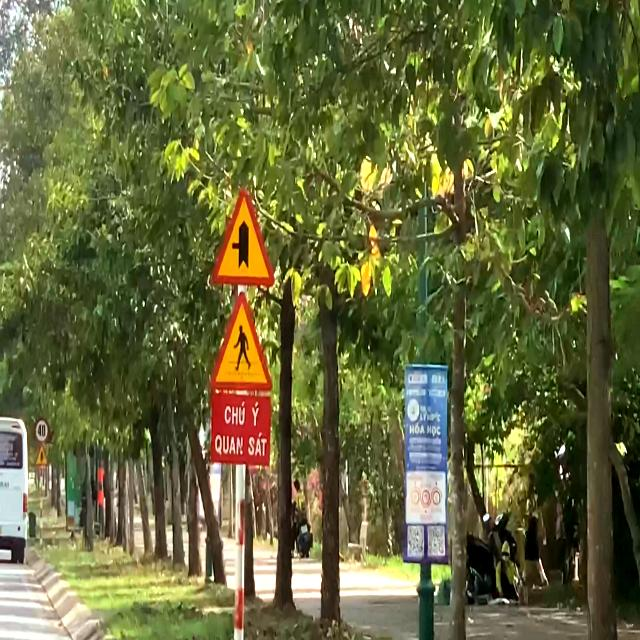P.127: (34, 417, 50, 444)
W.207b: (35, 444, 48, 466)
W.207c: (209, 182, 276, 287)
W.224: (208, 289, 274, 393)
